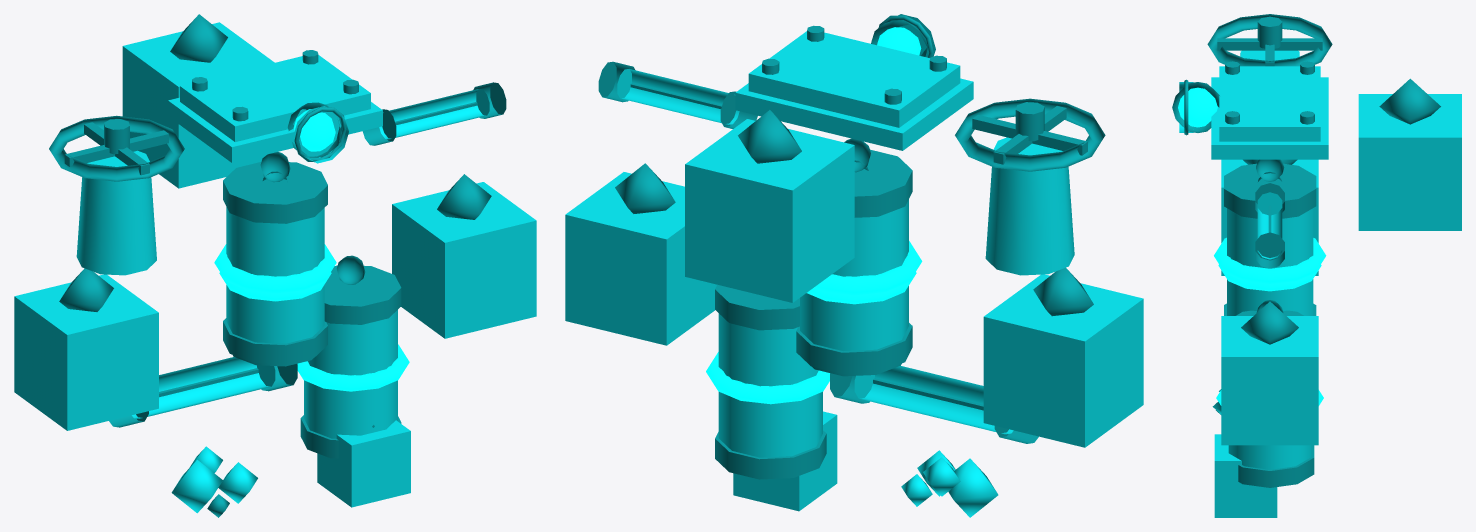
The model's file is golem_067.glb.
The picture shows the model from 3 angles, left to right: view 1: azimuth 30°, elevation 25°; view 2: azimuth 150°, elevation 25°; view 3: azimuth 270°, elevation 25°; orthographic projection. The views are drawn at different scales.
Parts seen in each view (by area): view 1: Body, Detail, Glow; view 2: Body, Detail, Glow; view 3: Body, Detail, Glow.
Part boxes in pixels (x1=…): Body: x1=14, y1=22, x2=536, y2=513; Detail: x1=49, y1=14, x2=506, y2=517; Glow: x1=214, y1=109, x2=409, y2=391; Body: x1=565, y1=14, x2=1143, y2=517; Detail: x1=598, y1=15, x2=1105, y2=479; Glow: x1=706, y1=27, x2=922, y2=404; Body: x1=1179, y1=50, x2=1461, y2=517; Detail: x1=1172, y1=14, x2=1440, y2=487; Glow: x1=1178, y1=87, x2=1326, y2=405.
Size of the model in its own units: 1.42 by 1.23 by 0.8241.
